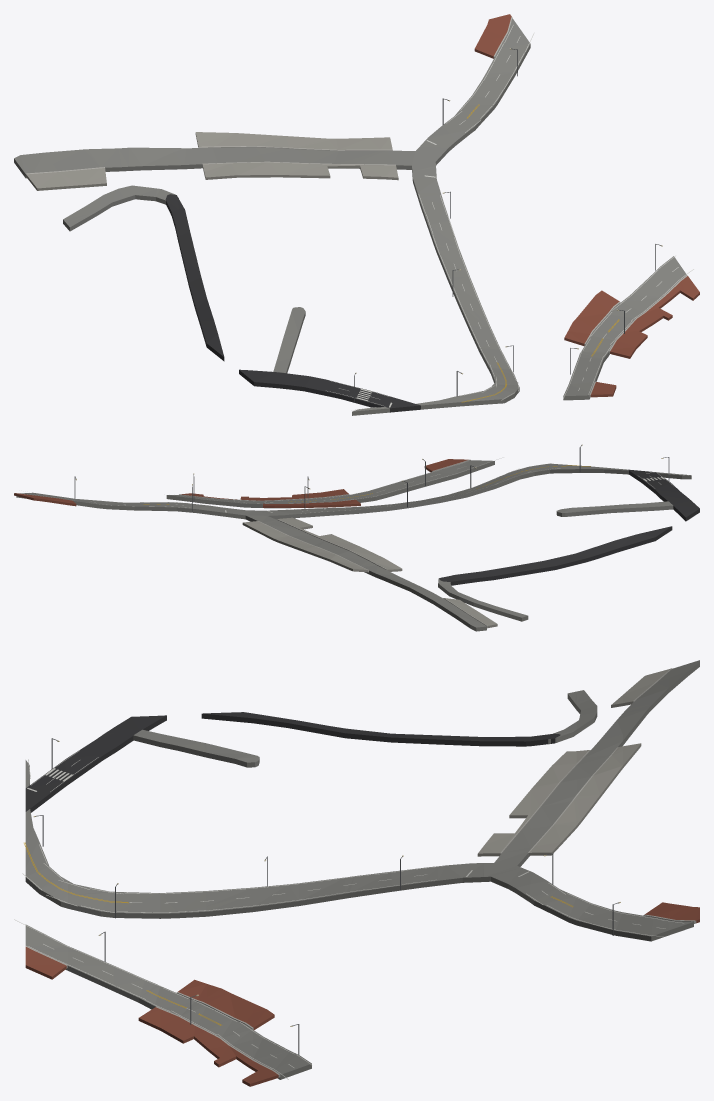
The picture shows the model from 3 angles, top to bottom: view 1: azimuth 30°, elevation 25°; view 2: azimuth 150°, elevation 25°; view 3: azimuth 270°, elevation 25°; orthographic projection. The views are drawn at different scales.
Bounding box in the file's own units: 150 × 40.99 × 148.
